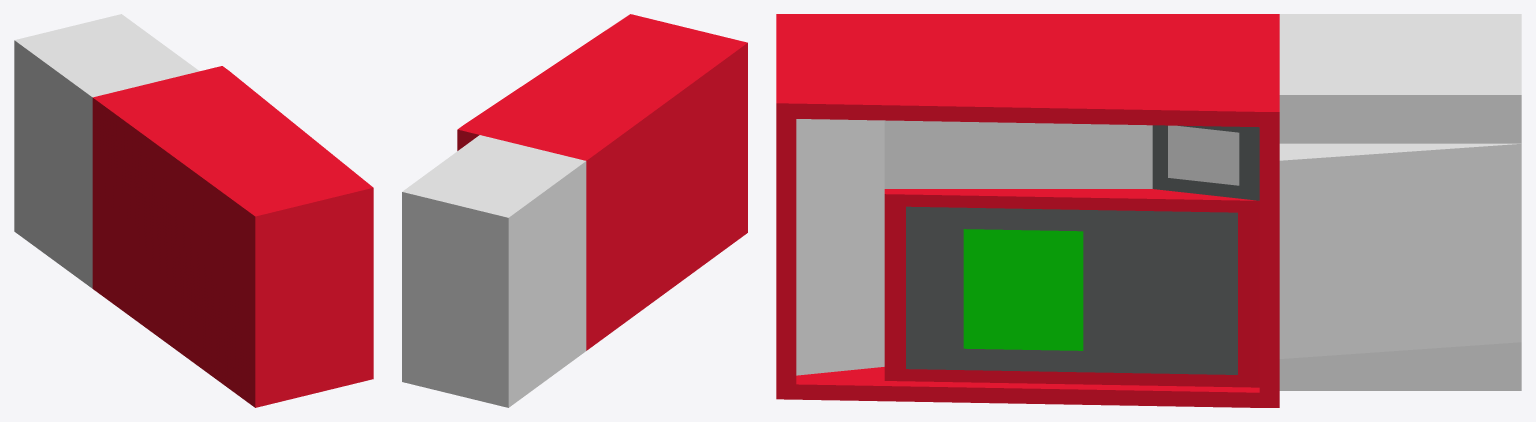
File: ticket_vending_machine_1.dae
The picture shows the model from 3 angles, left to right: view 1: azimuth 30°, elevation 25°; view 2: azimuth 150°, elevation 25°; view 3: azimuth 270°, elevation 25°; orthographic projection. The views are drawn at different scales.
Parts seen in each view (by area): view 1: coords_ME_ID11_MA_material_0, coords_ME_ID3_MA_material; view 2: coords_ME_ID11_MA_material_0, coords_ME_ID3_MA_material; view 3: coords_ME_ID11_MA_material_0, coords_ME_ID3_MA_material, coords_ME_ID49_MA_material_2, coords_ME_ID55_MA_material_4, coords_ME_ID19_MA_material_1, coords_ME_ID35_MA_material_3, coords_ME_ID43_MA_material_1, coords_ME_ID27_MA_material_2.
Boxes of the visible parts, box(x1,y1,x2,y2) form: coords_ME_ID11_MA_material_0: box(92, 66, 373, 407); coords_ME_ID3_MA_material: box(14, 14, 199, 288); coords_ME_ID11_MA_material_0: box(457, 14, 747, 350); coords_ME_ID3_MA_material: box(402, 135, 586, 407); coords_ME_ID11_MA_material_0: box(776, 14, 1279, 407); coords_ME_ID3_MA_material: box(1279, 14, 1521, 390); coords_ME_ID49_MA_material_2: box(906, 206, 1237, 374); coords_ME_ID55_MA_material_4: box(796, 119, 884, 375); coords_ME_ID19_MA_material_1: box(884, 120, 1152, 188); coords_ME_ID35_MA_material_3: box(963, 229, 1083, 350); coords_ME_ID43_MA_material_1: box(1168, 125, 1239, 185); coords_ME_ID27_MA_material_2: box(1152, 125, 1259, 200).
Size of the model in its own units: 5.78 by 8.15 by 18.59.
